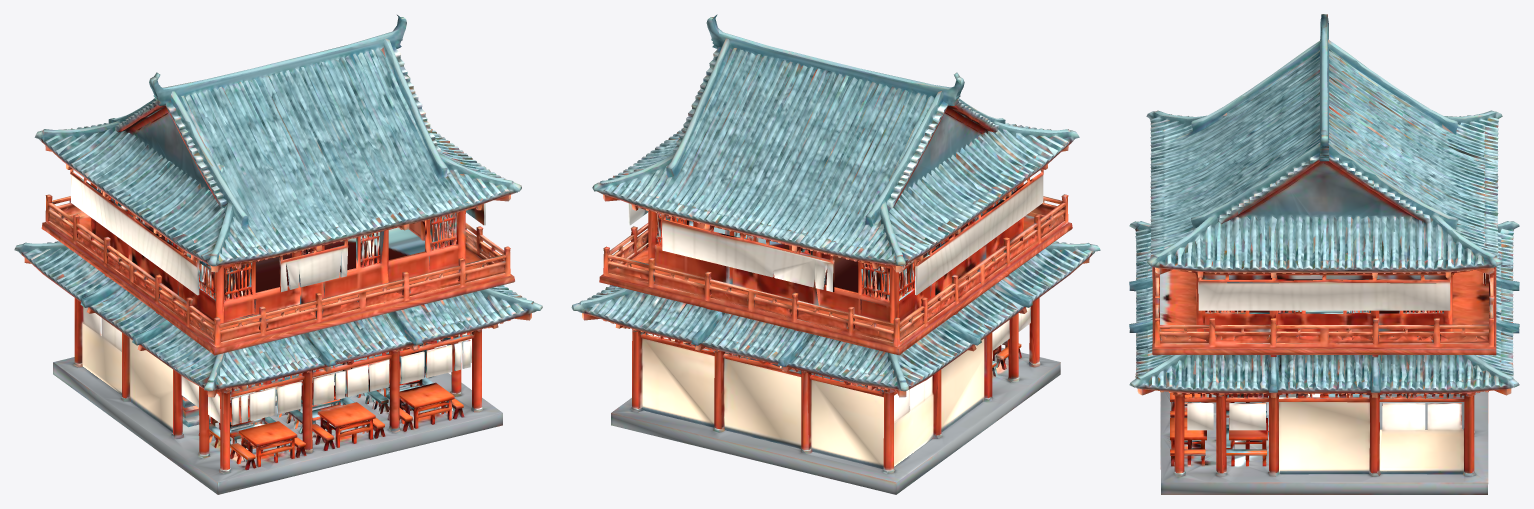
Rendered from qm_shop2.glb.
3 renders of one model, left to right at view 1: azimuth 30°, elevation 25°; view 2: azimuth 150°, elevation 25°; view 3: azimuth 270°, elevation 25°, orthographic.
Visible parts, largest first — view 1: qm_shop2; view 2: qm_shop2; view 3: qm_shop2.
Part boxes in pixels (x1=…): qm_shop2: x1=14, y1=15, x2=542, y2=494; qm_shop2: x1=571, y1=14, x2=1100, y2=494; qm_shop2: x1=1129, y1=14, x2=1519, y2=494.
Size of the model in its own units: 8 by 8 by 8.01.
1 material, 1 textured.
